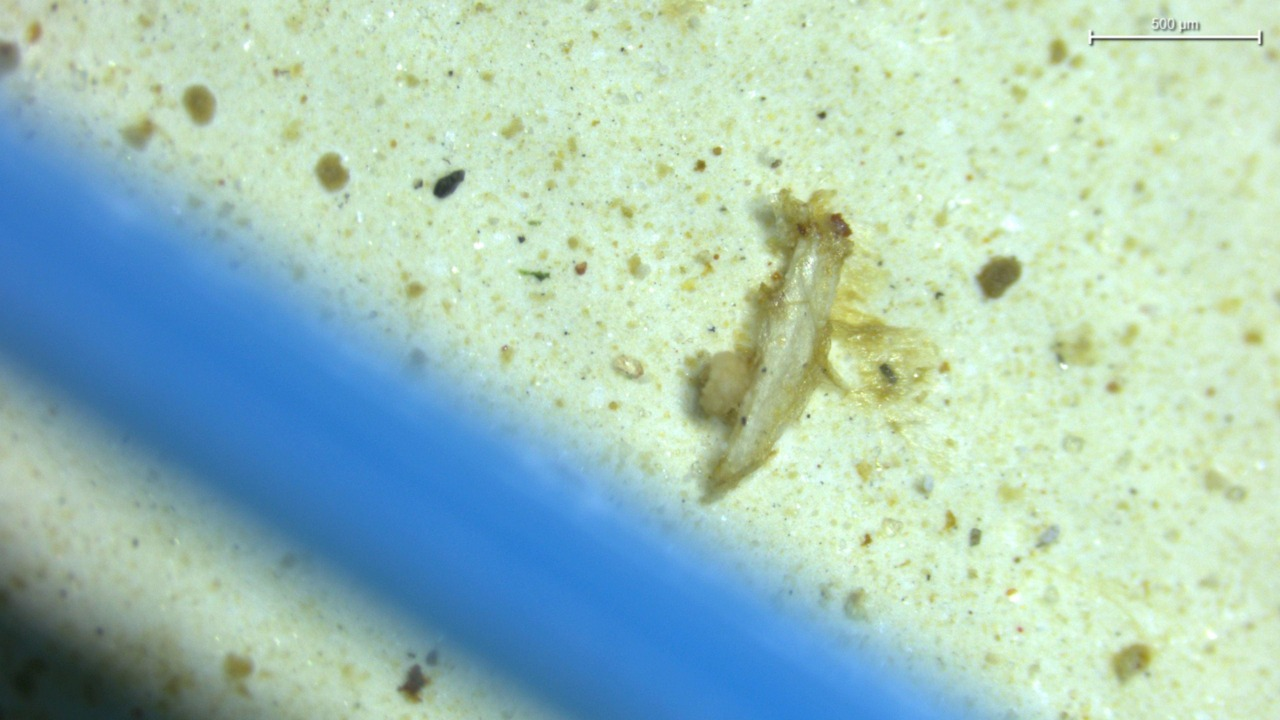microplastic_fragment: (711, 214, 853, 489), (698, 351, 753, 424)
